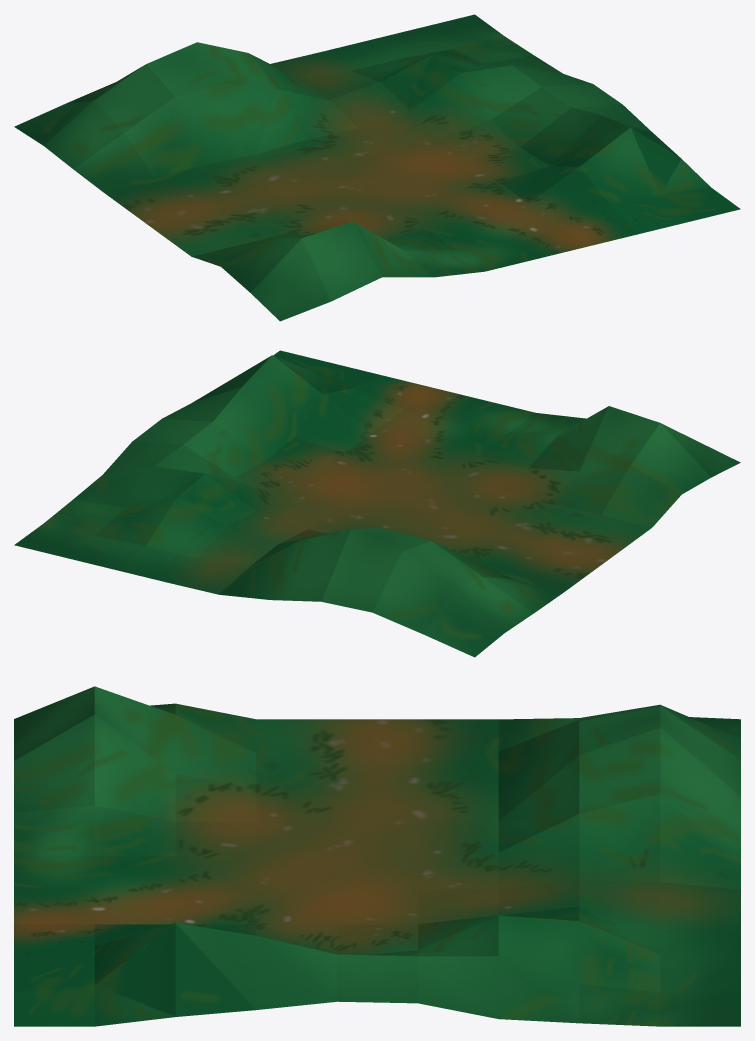
The model's file is MonstersInTheFields_Stagemodel.obj.
The picture shows the model from 3 angles, top to bottom: view 1: azimuth 30°, elevation 25°; view 2: azimuth 150°, elevation 25°; view 3: azimuth 270°, elevation 25°; orthographic projection. The views are drawn at different scales.
Parts seen in each view (by area): view 1: Cube; view 2: Cube; view 3: Cube.
Boxes of the visible parts, x1,y1,x2,y2 form: Cube: (14,14,740,321); Cube: (14,350,740,657); Cube: (14,686,740,1026).
Bounding box in the file's own units: 25.03 × 3.58 × 25.03.
